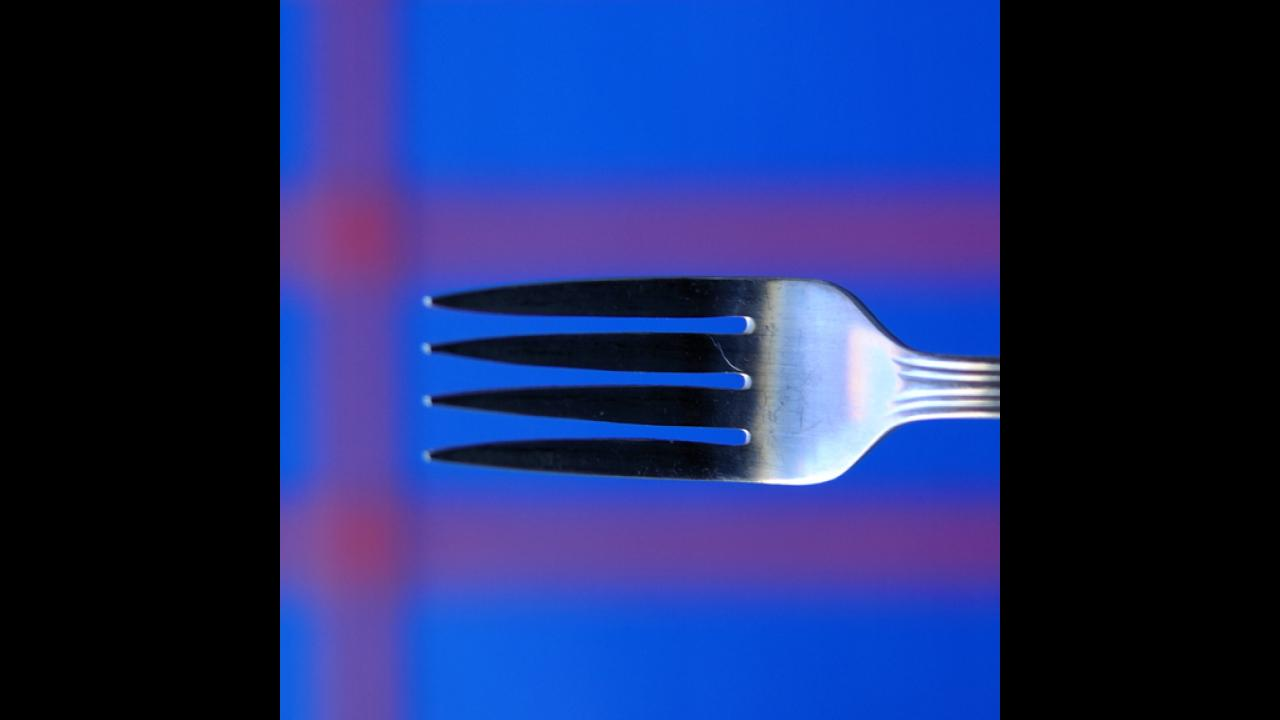fork: (417, 271, 1000, 488)
